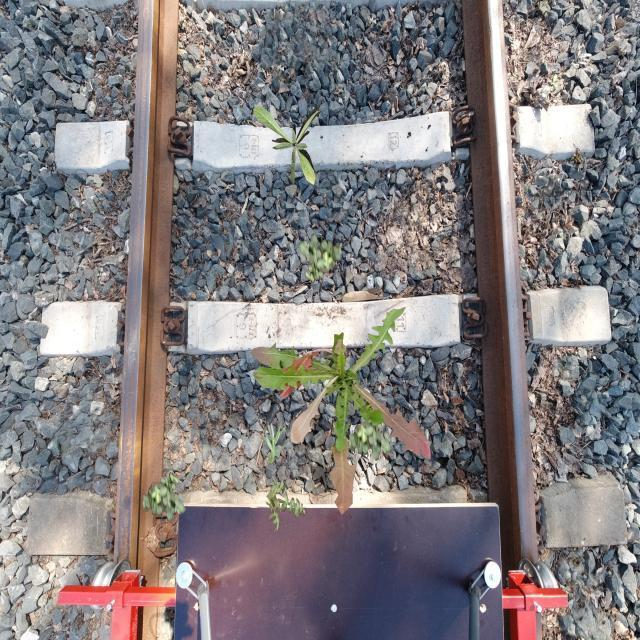Plant: (251, 307, 431, 516), (253, 105, 324, 186), (265, 478, 306, 532), (348, 411, 392, 461), (142, 472, 186, 522), (298, 233, 342, 283), (261, 422, 288, 464)
